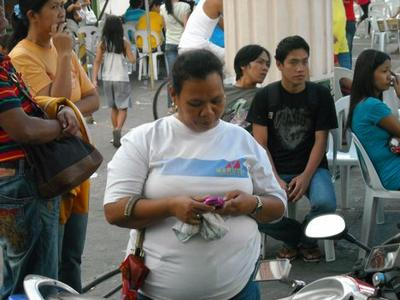person: (103, 49, 287, 300)
